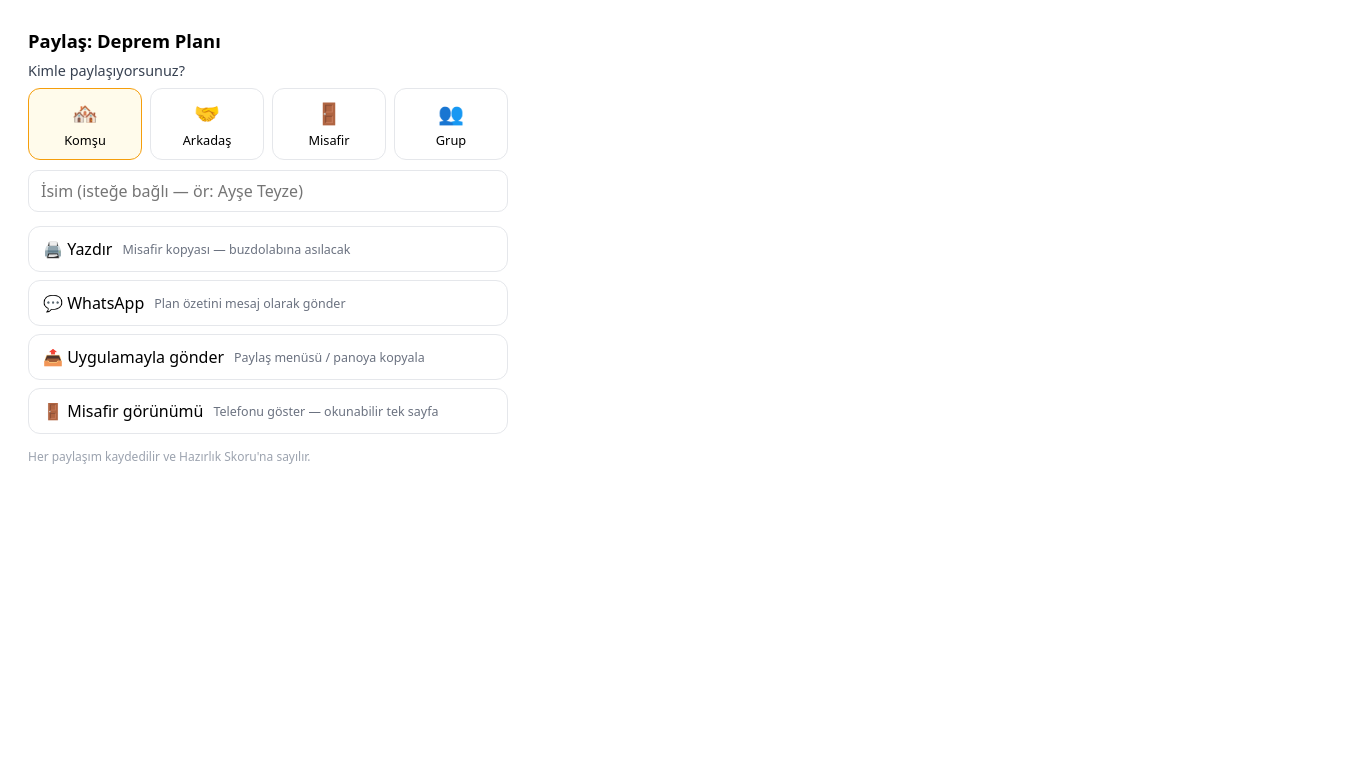
it: ShareDialog — komşu/arkadaş/misafir/grup paylaşımı › popup blocked (window.open null) → share is NOT logged, error shown
Click the button "💬 WhatsApp Plan özetini mesaj olarak gönder" at (268, 303), box [28,280,508,326]
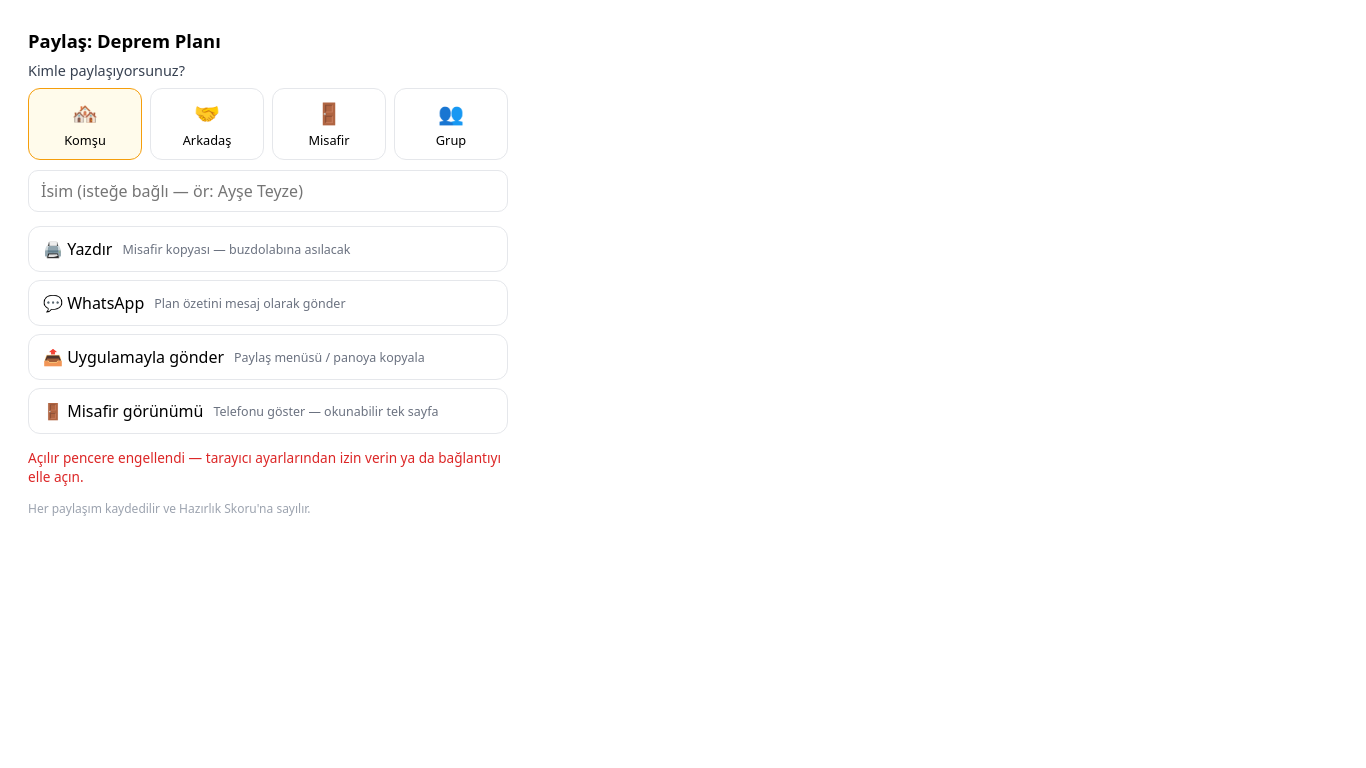
Expected: the text "Açılır pencere engellendi" is shown, [28,448,501,486]
